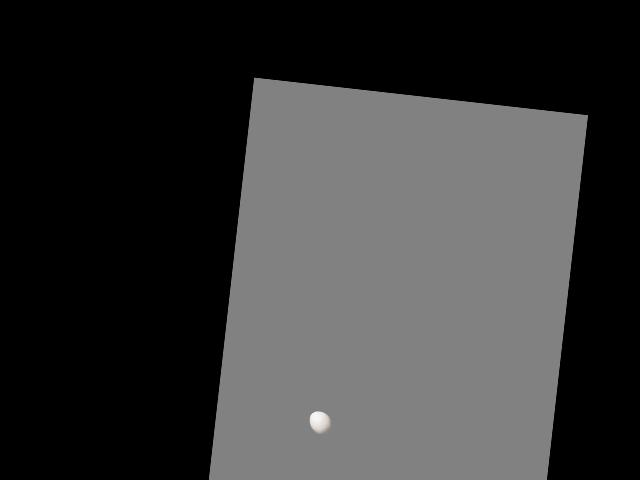egg: (308, 410, 333, 436)
